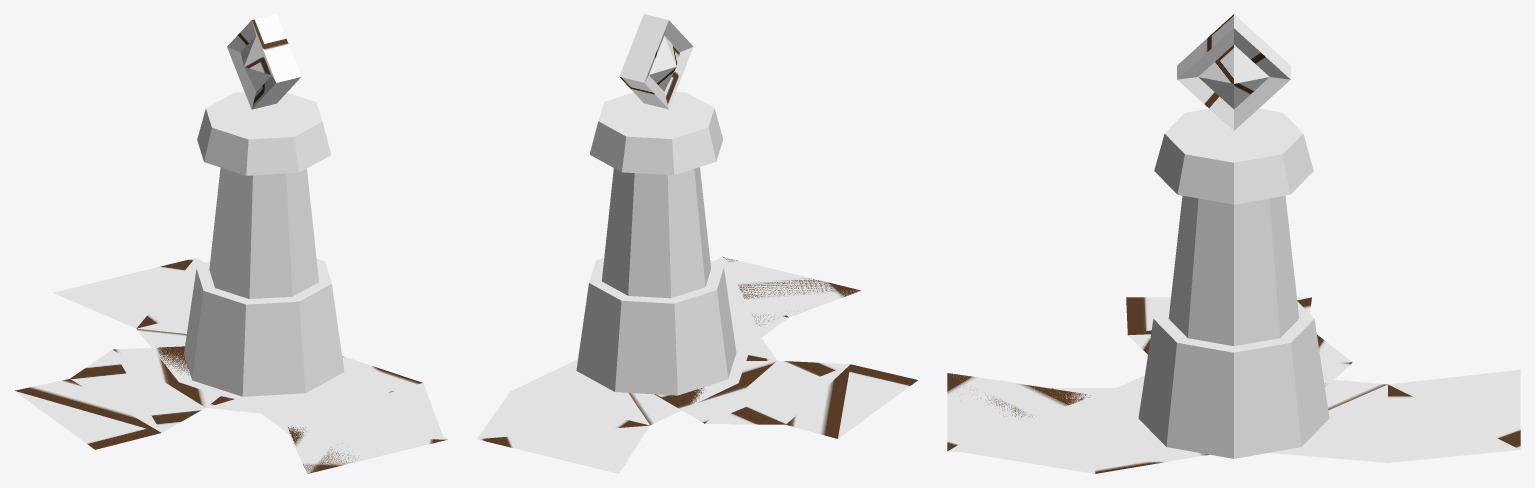
Rendered from Asset-kit4.fbx.
The picture shows the model from 3 angles, left to right: view 1: azimuth 30°, elevation 25°; view 2: azimuth 150°, elevation 25°; view 3: azimuth 270°, elevation 25°; orthographic projection. The views are drawn at different scales.
Parts seen in each view (by area): view 1: Пьедестал, РекаПоворот, РекаПрямо, Кристал1; view 2: Пьедестал, РекаПоворот, РекаПрямо, Кристал1; view 3: Пьедестал, РекаПрямо, РекаПоворот, Кристал1.
Boxes of the visible parts, x1,y1,x2,y2 form: Пьедестал: [184, 92, 344, 396]; РекаПоворот: [14, 346, 447, 473]; РекаПрямо: [53, 258, 442, 473]; Кристал1: [227, 14, 301, 109]; Пьедестал: [576, 92, 736, 395]; РекаПоворот: [655, 256, 917, 438]; РекаПрямо: [477, 257, 859, 473]; Кристал1: [619, 14, 693, 109]; Пьедестал: [1138, 108, 1329, 458]; РекаПрямо: [947, 369, 1520, 473]; РекаПоворот: [947, 297, 1352, 455]; Кристал1: [1177, 14, 1290, 130].
Size of the model in its own units: 437 by 459 by 600.
1 material, 1 textured.
